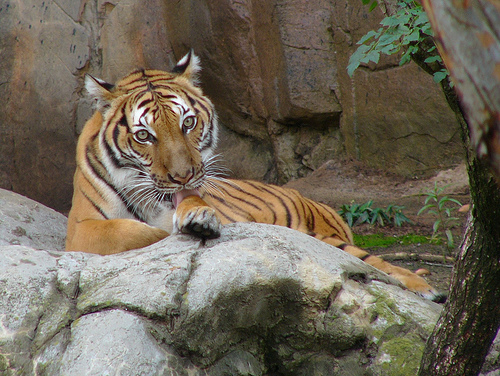Tigre: (51, 47, 295, 261)
